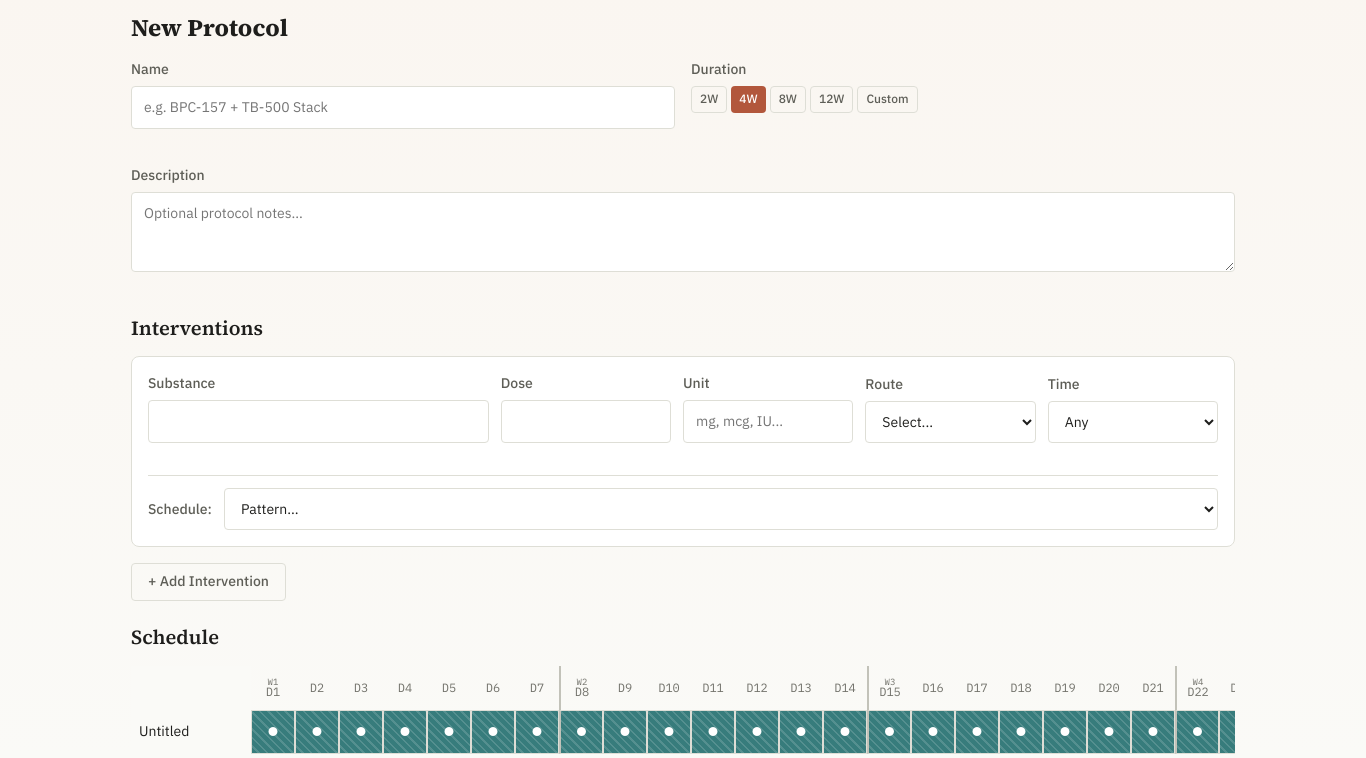
Test: ProtocolBuilder › shows error message on submission failure
Type "Test Protocol" into the field labelled "Name" at (403, 107), box [131,86,675,129]
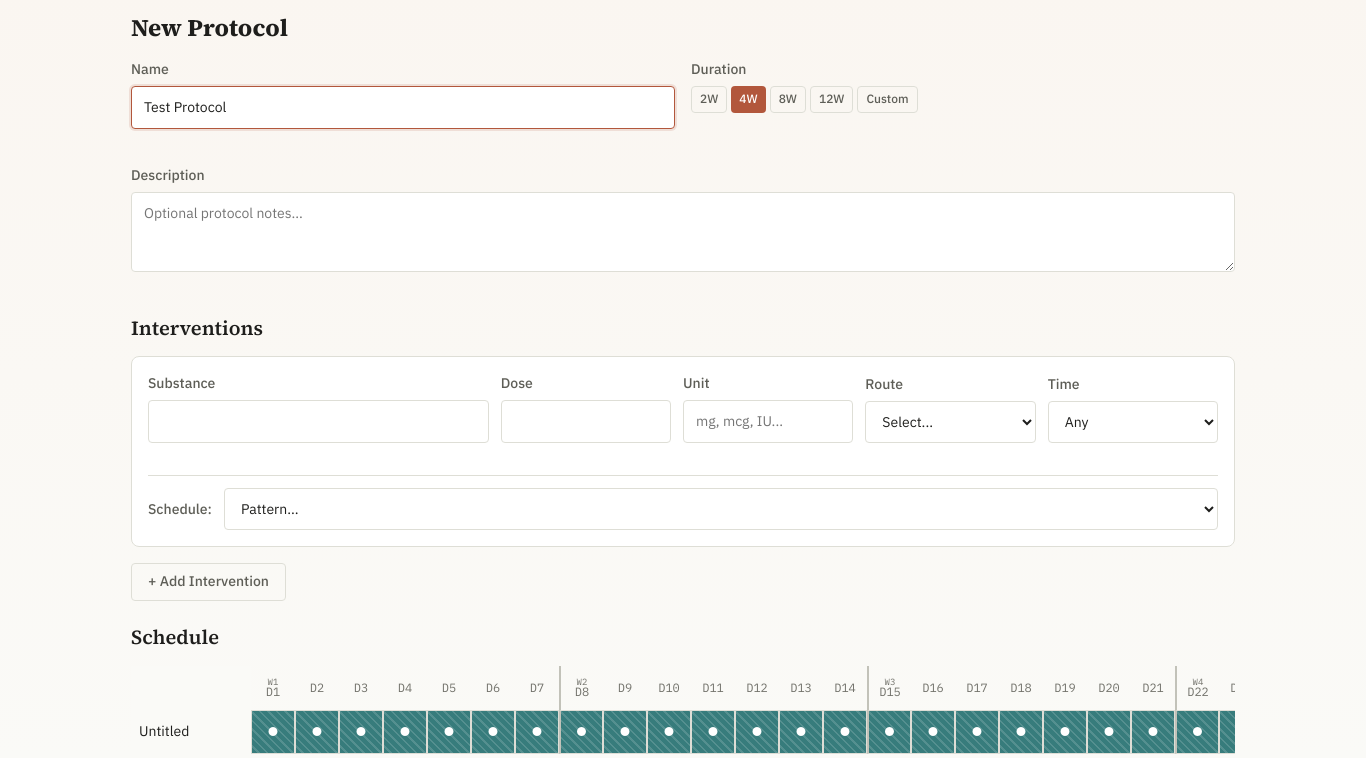
Type "BPC-157" into the field labelled "Substance" at (318, 422), box [148,400,489,444]
(page scrolled)
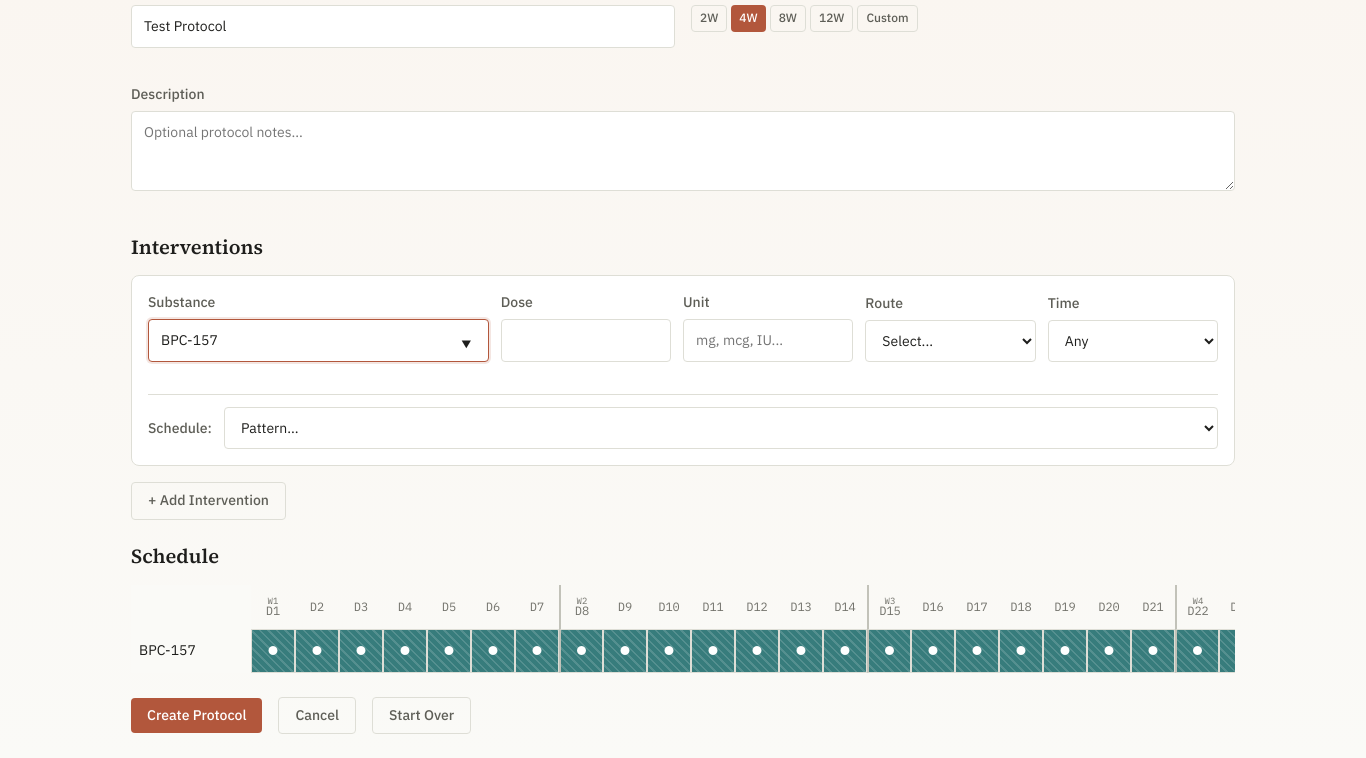
Click the button "Create Protocol" at (197, 716), box [131,698,262,733]
(page scrolled)
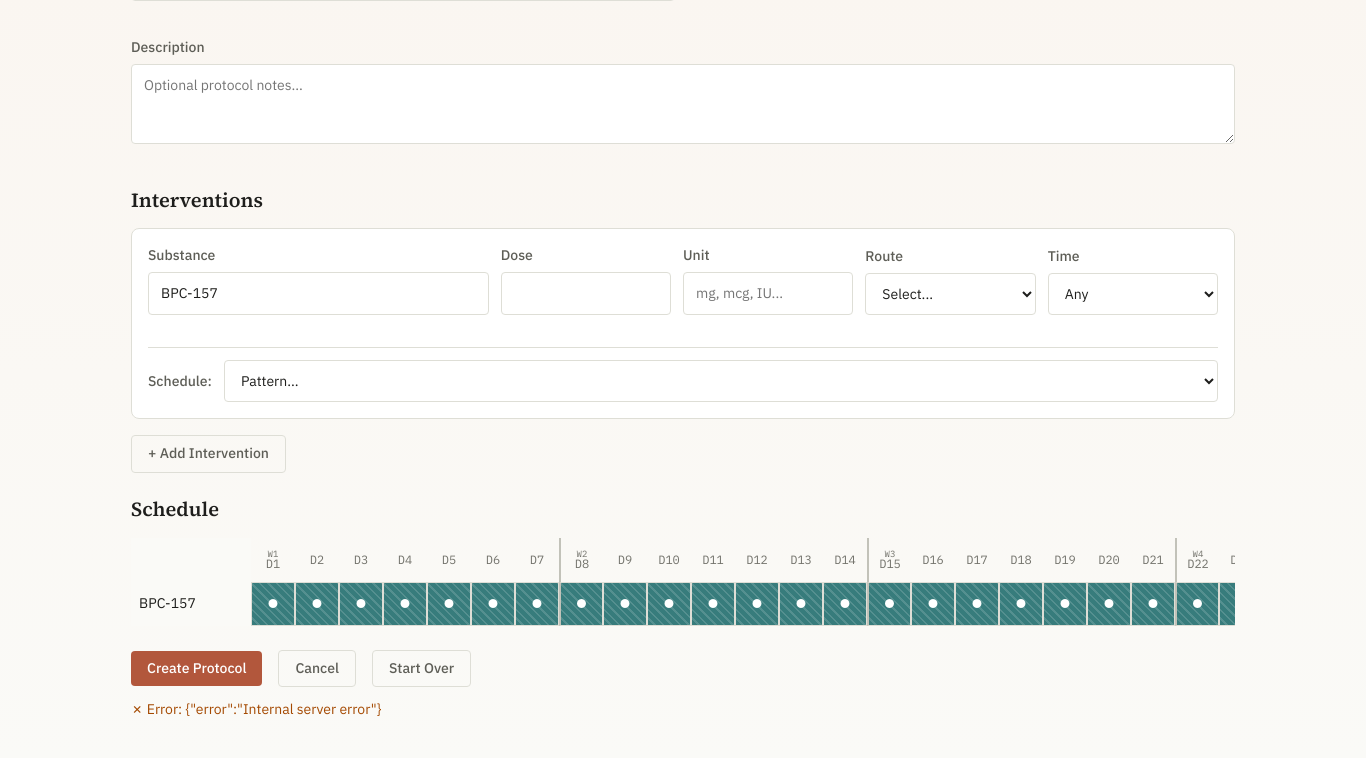
Result: the text "Error: {\"error\":\"Internal server error\"}" is shown at [147,700,381,718]
